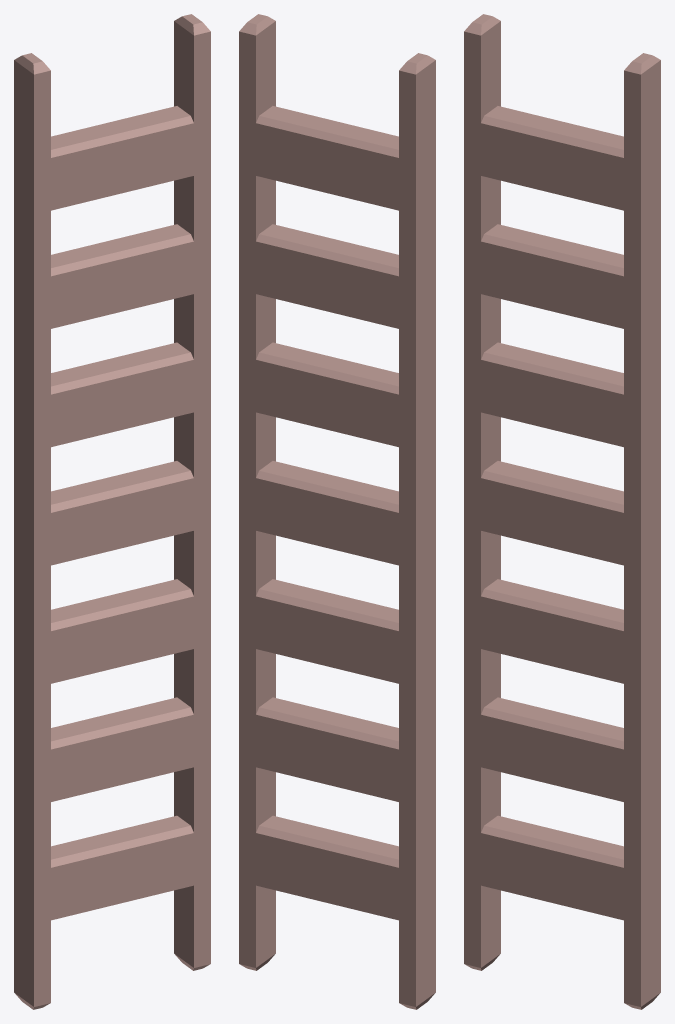
Rendered from PRP_Ladder.fbx.
3 views of the same model, side by side, from view 1: azimuth 30°, elevation 25°; view 2: azimuth 150°, elevation 25°; view 3: azimuth 330°, elevation 25° (orthographic).
Visible parts, largest first — view 1: pCube99; view 2: pCube99; view 3: pCube99.
Part boxes in pixels (x1,y1,x2,y2): pCube99: [14, 14, 210, 1009]; pCube99: [239, 14, 435, 1009]; pCube99: [464, 14, 660, 1009].
Bounding box in the file's own units: 0.5828 × 2.98 × 0.1143.
